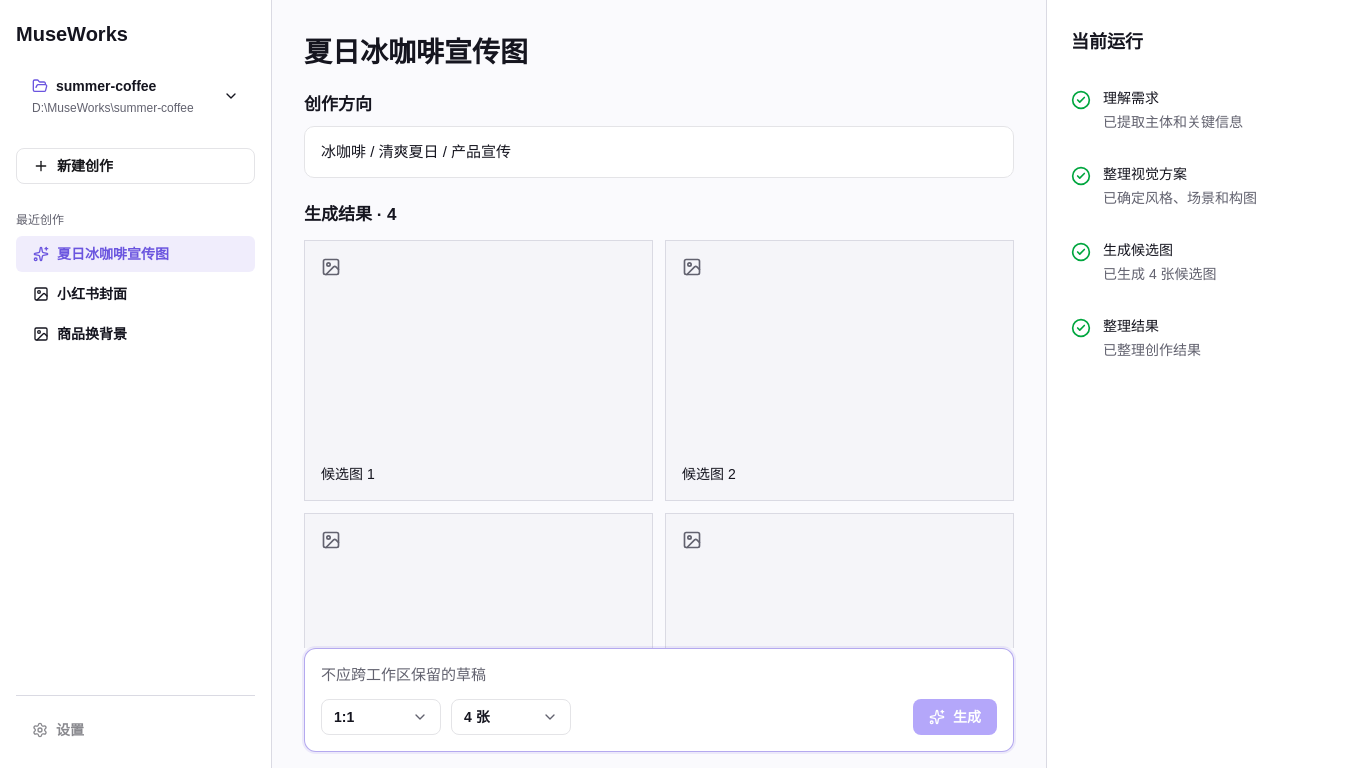
Test: creative workspace renderer › does not carry an unsubmitted Composer draft into a newly activated Workspace
Clear the field named "创作描述" at (404, 674), box [321, 665, 486, 684]
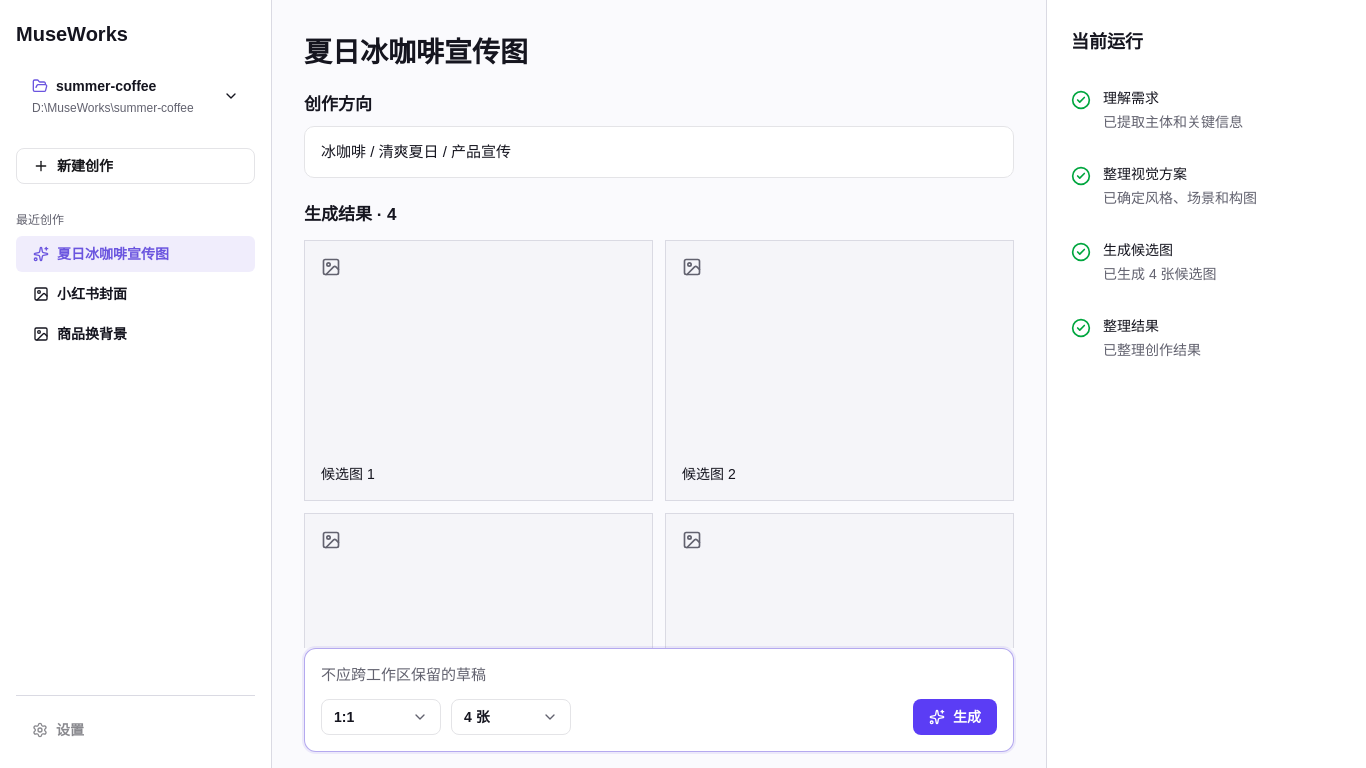
expect the button "生成" is enabled: met, box [913, 699, 997, 735]
Press the mouse on the button "summer-coffee D:\\MuseWorks\\summer-coffee" at (136, 96), box [16, 68, 255, 124]
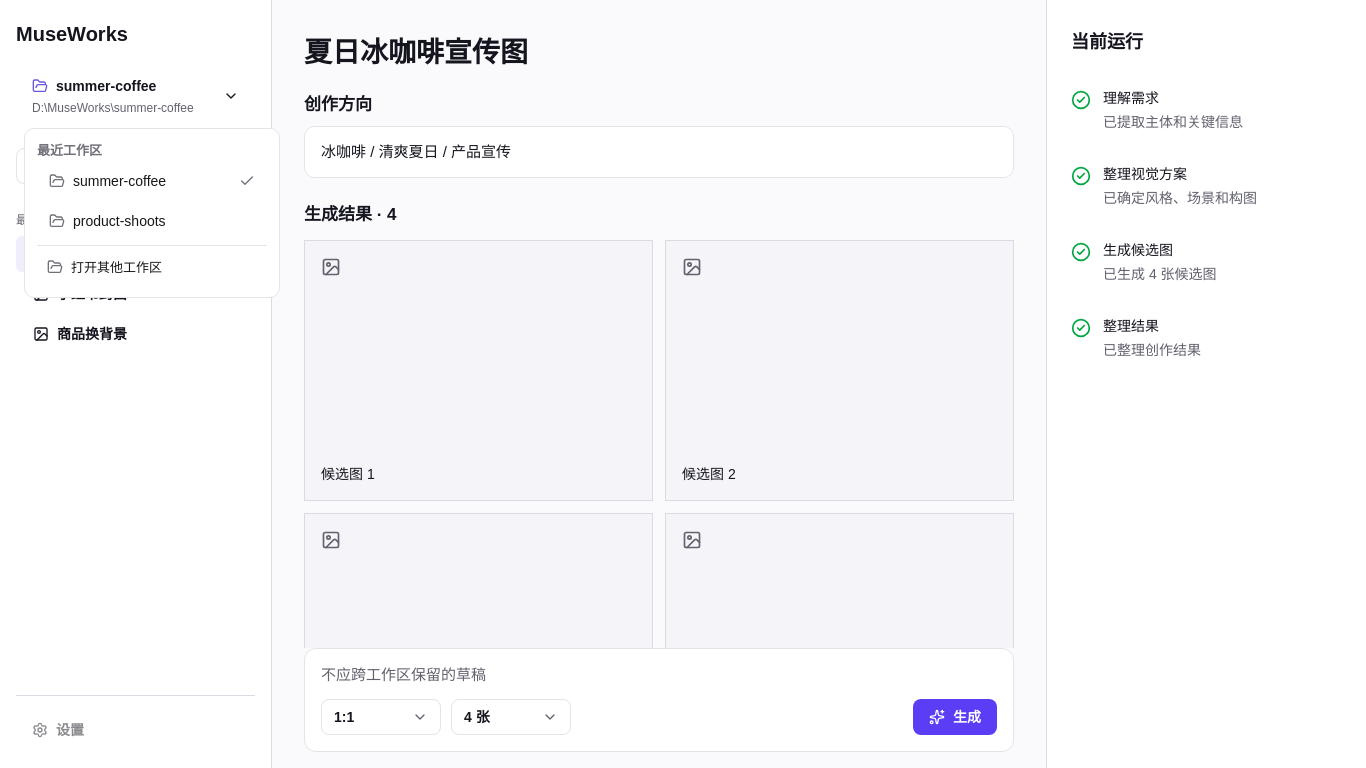
Click the menu item "product-shoots" at (107, 220), box [49, 212, 166, 228]
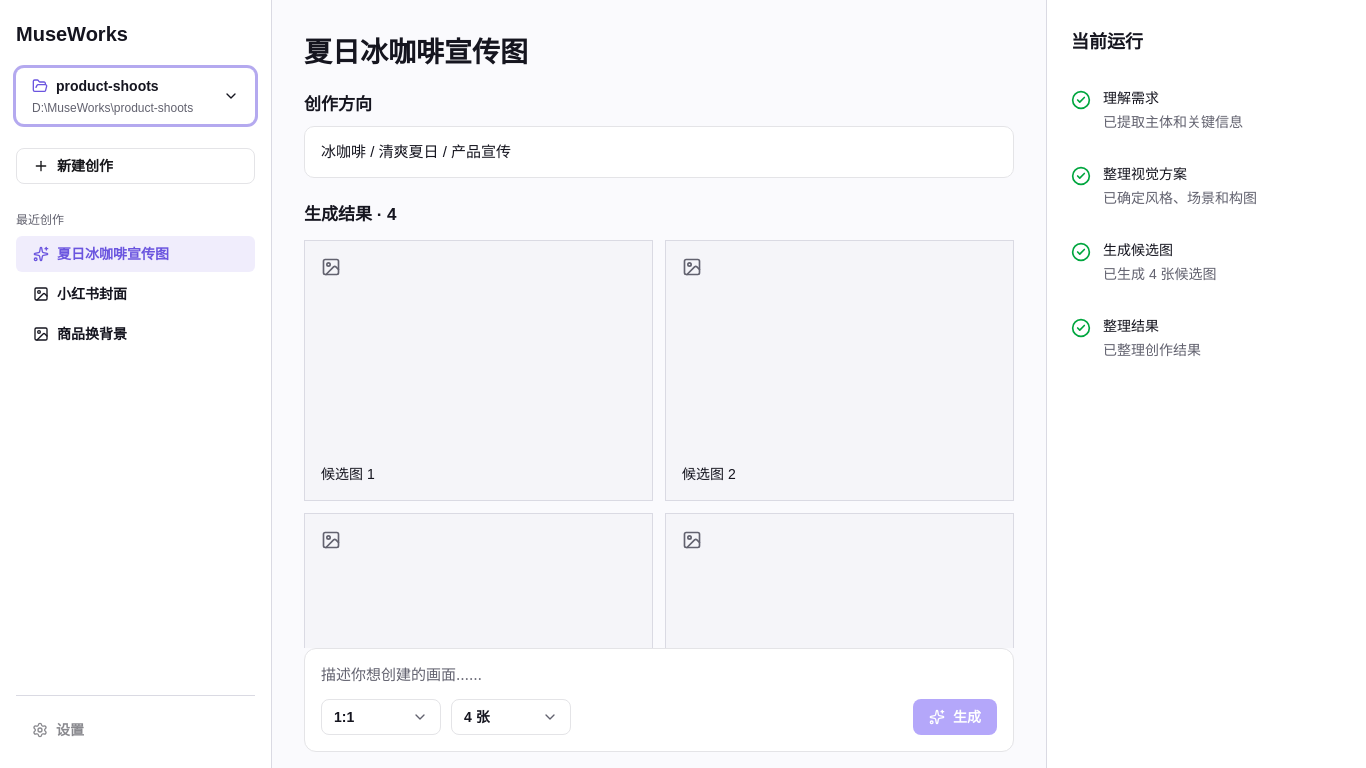
expect the field named "创作描述" is empty: met, box [321, 665, 997, 685]
expect the button "生成" is disabled: met, box [913, 699, 997, 735]
